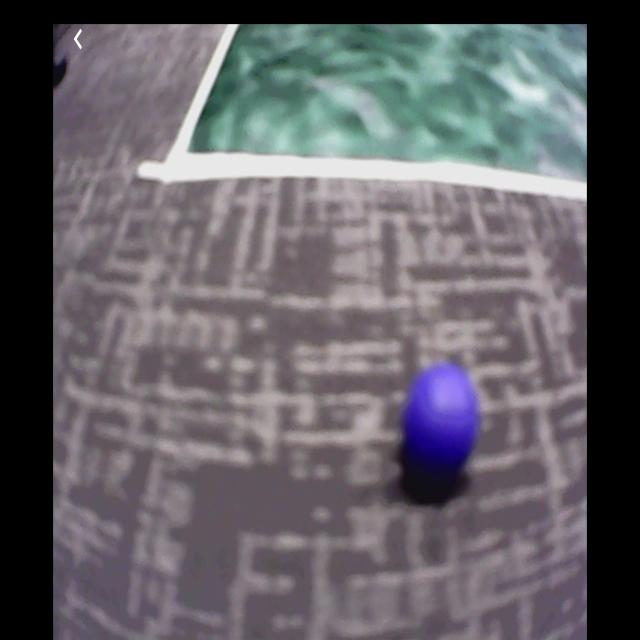ball: (407, 364, 478, 478)
